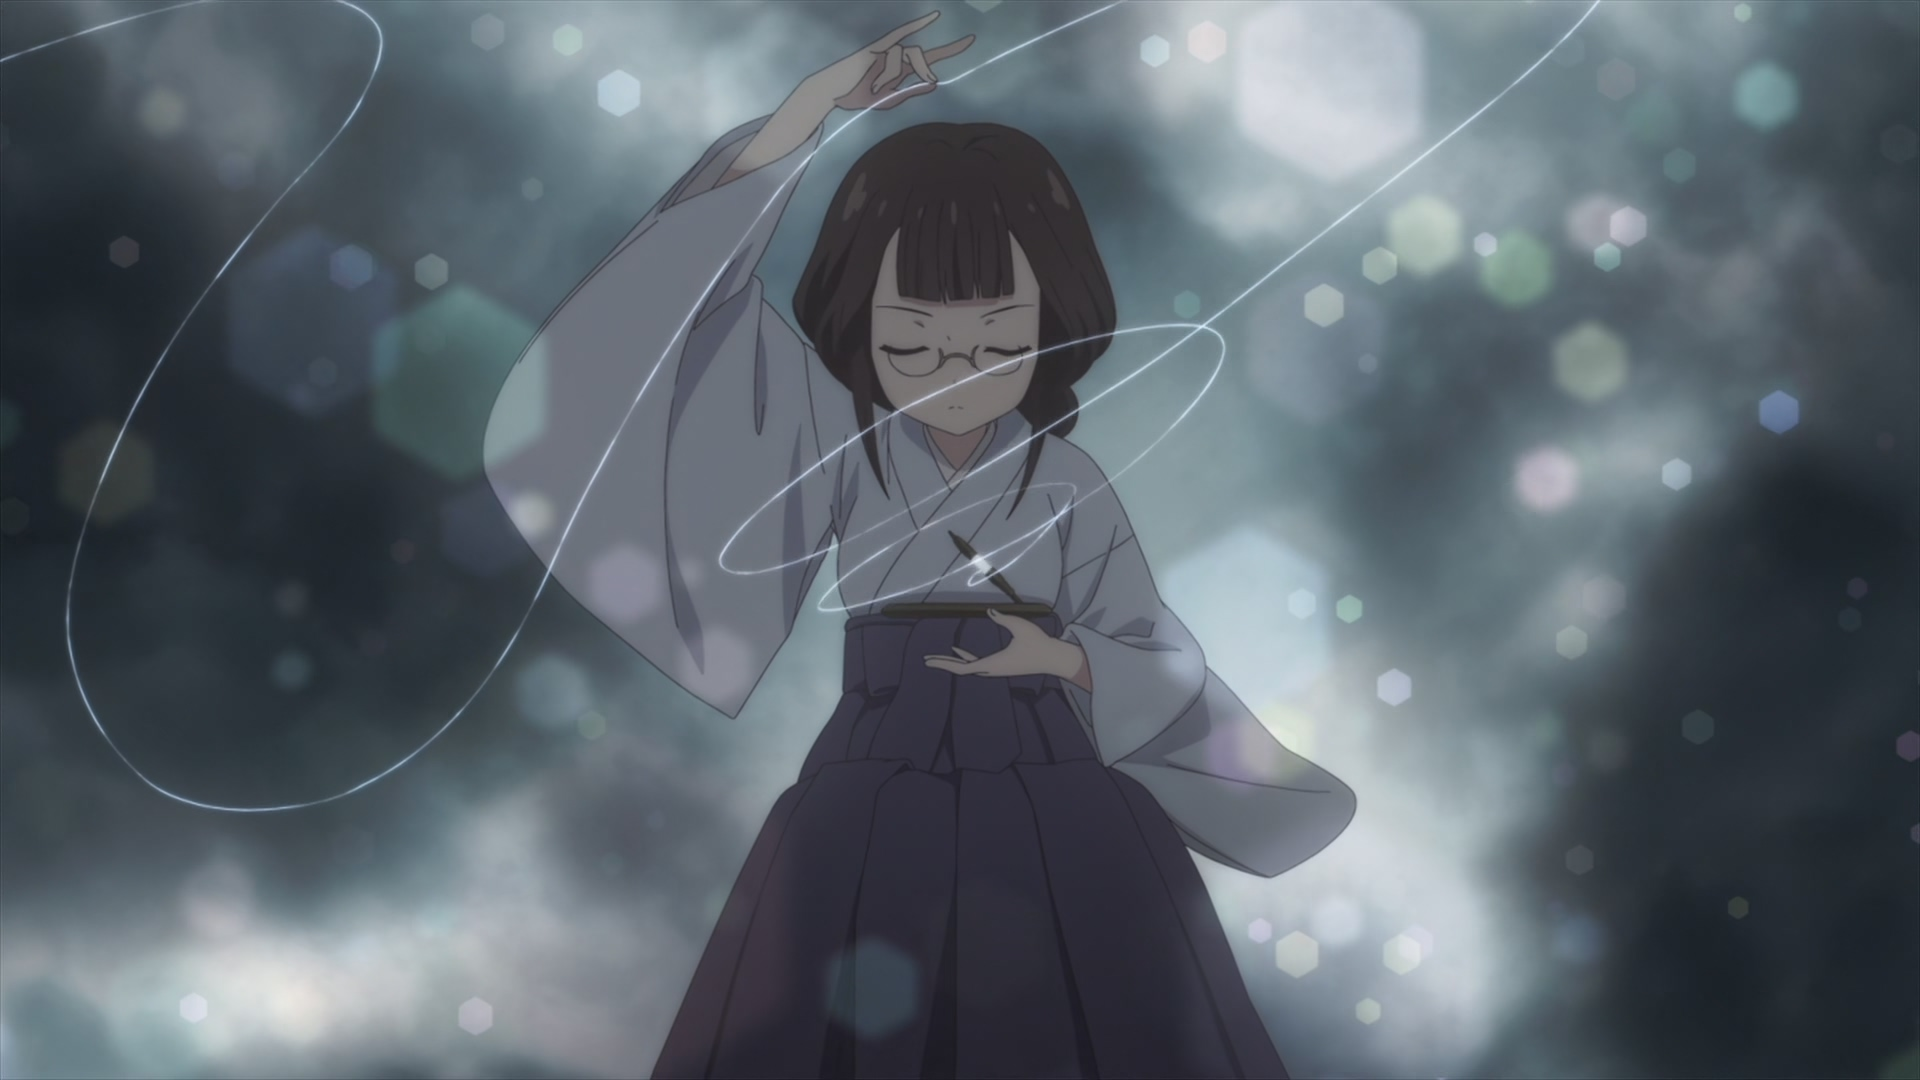其他: (483, 11, 1356, 1080)
